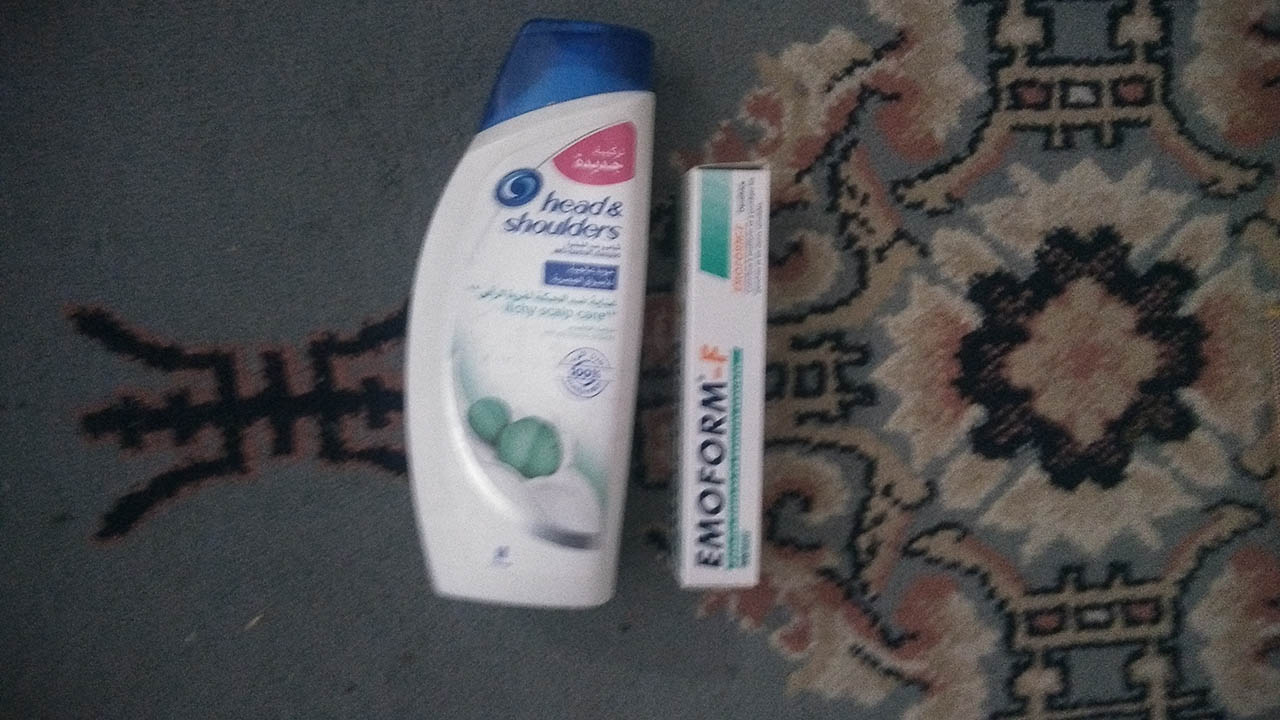Toothpaste-F 1.5$: (673, 155, 782, 589)
shampoo-green 4.5$: (404, 30, 668, 626)
